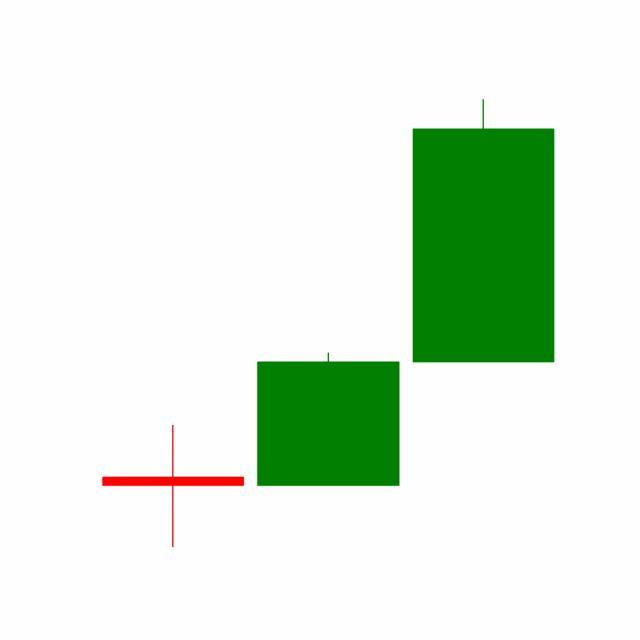Marubozu: (249, 350, 406, 486)
